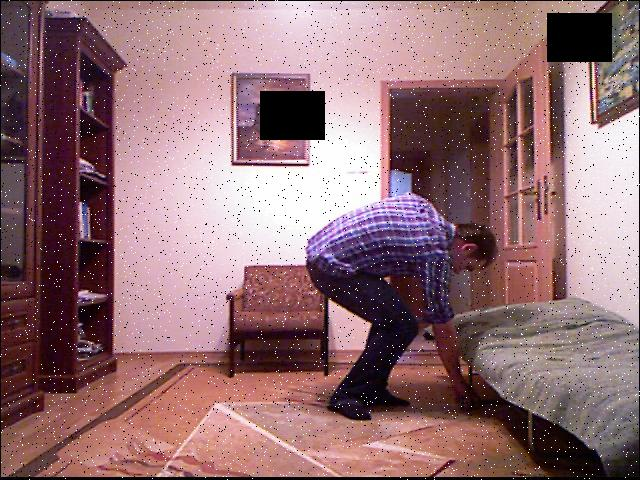bending: (292, 171, 514, 430)
